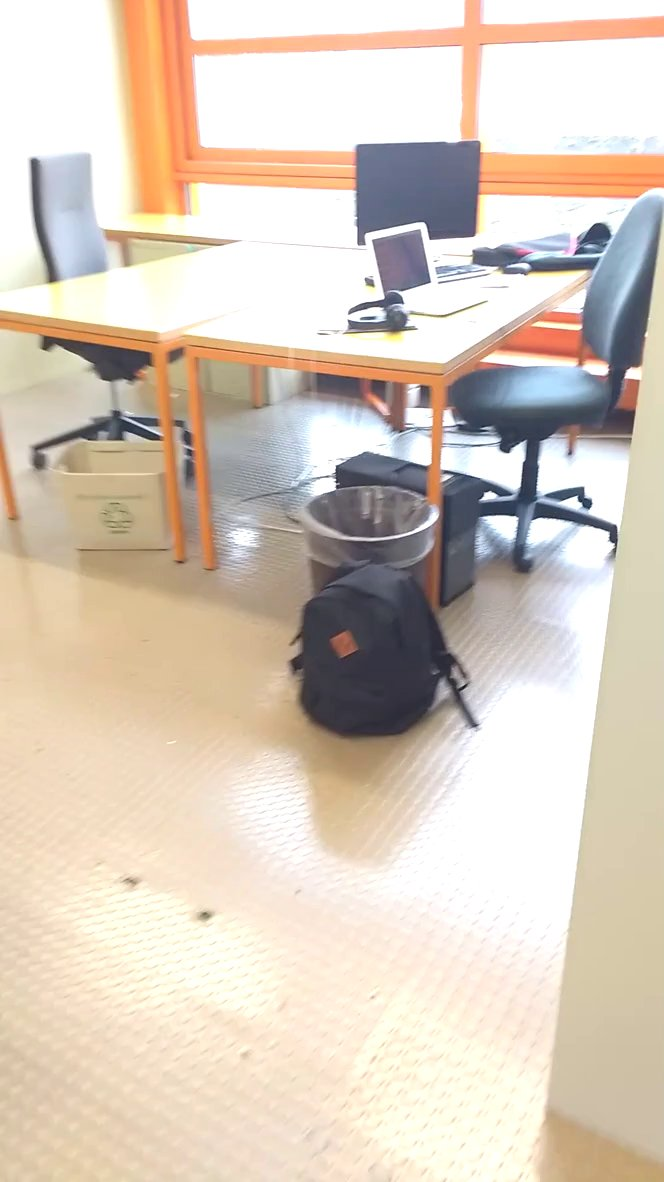bag: (288, 553, 488, 745)
bin: (296, 472, 451, 581)
box: (37, 422, 192, 567)
chair: (446, 161, 664, 572), (8, 146, 193, 378)
laptop: (355, 216, 498, 320)
